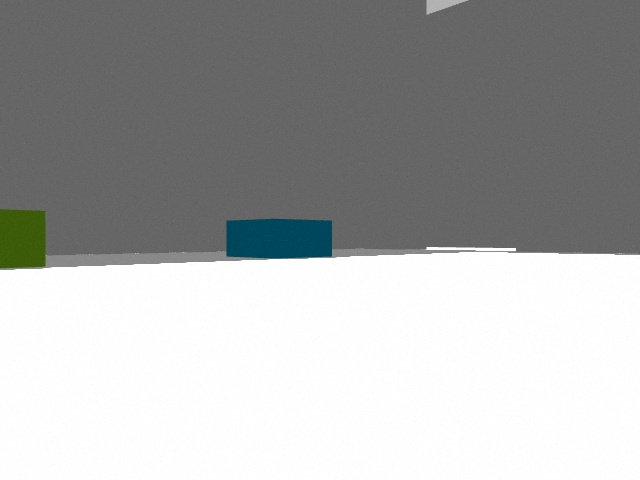blue_drop_zone: (226, 219, 332, 259)
green_drop_zone: (0, 209, 46, 268)
